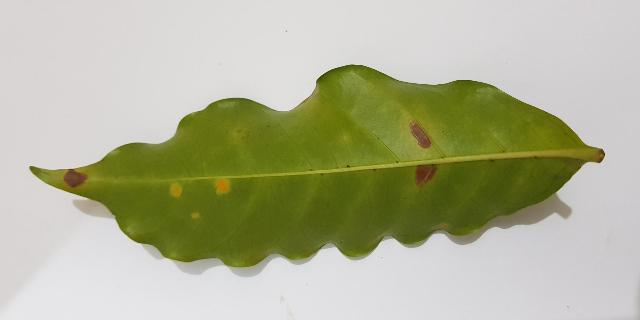cercospora: (409, 121, 432, 148), (62, 168, 90, 190), (415, 164, 436, 186), (215, 178, 230, 193), (170, 183, 182, 197), (192, 213, 198, 218)
